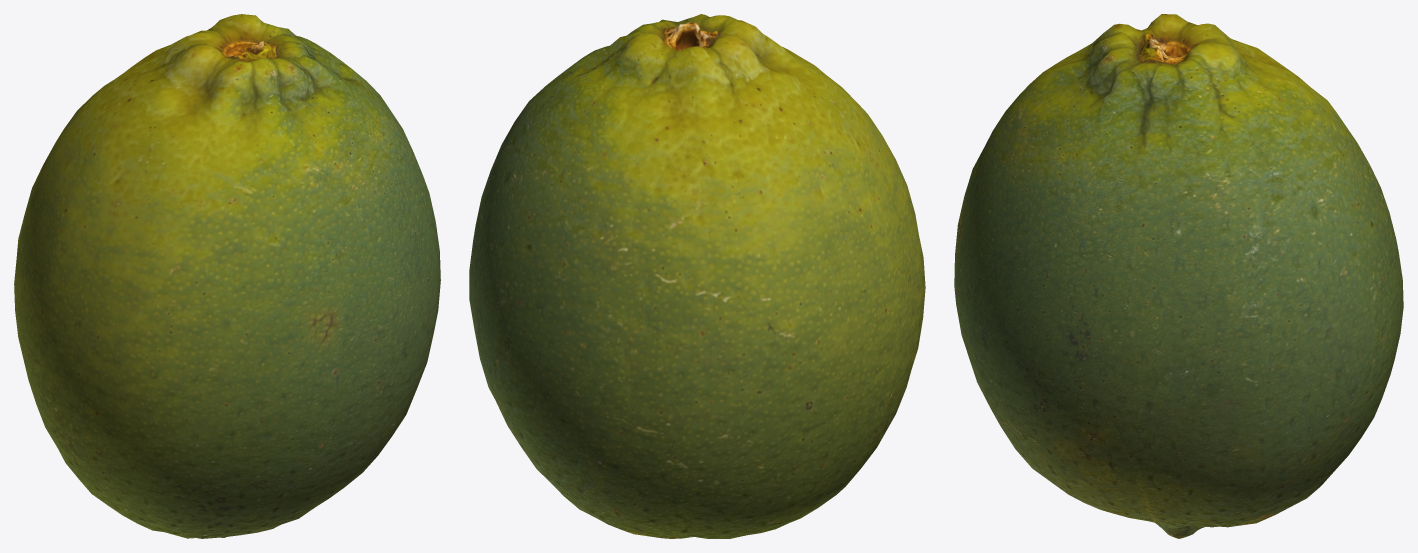
The model's file is Lime.fbx.
3 renders of one model, left to right at view 1: azimuth 30°, elevation 25°; view 2: azimuth 150°, elevation 25°; view 3: azimuth 270°, elevation 25°, orthographic.
Visible parts, largest first — view 1: Lime; view 2: Lime; view 3: Lime.
Boxes of the visible parts, x1,y1,x2,y2 form: Lime: (14,14,440,538); Lime: (469,14,925,538); Lime: (954,14,1403,538).
Bounding box in the file's own units: 5.99 × 7.52 × 6.1.
1 material, 1 textured.
